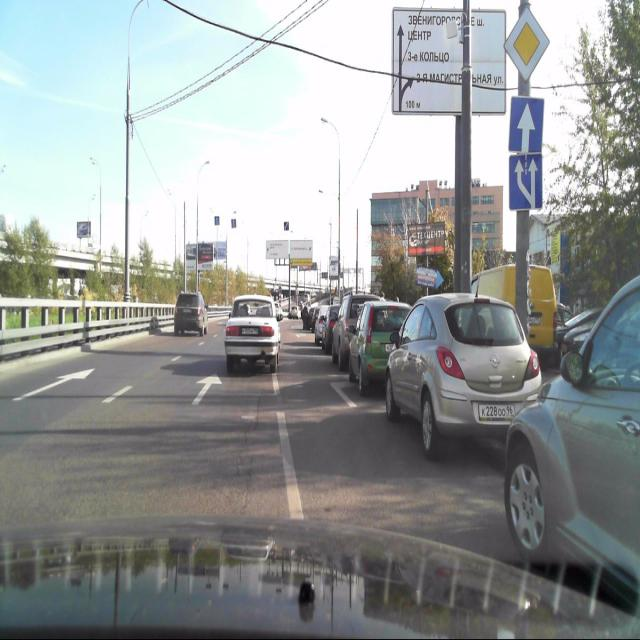road sign: (501, 6, 549, 84), (508, 92, 546, 154), (508, 152, 545, 212)
